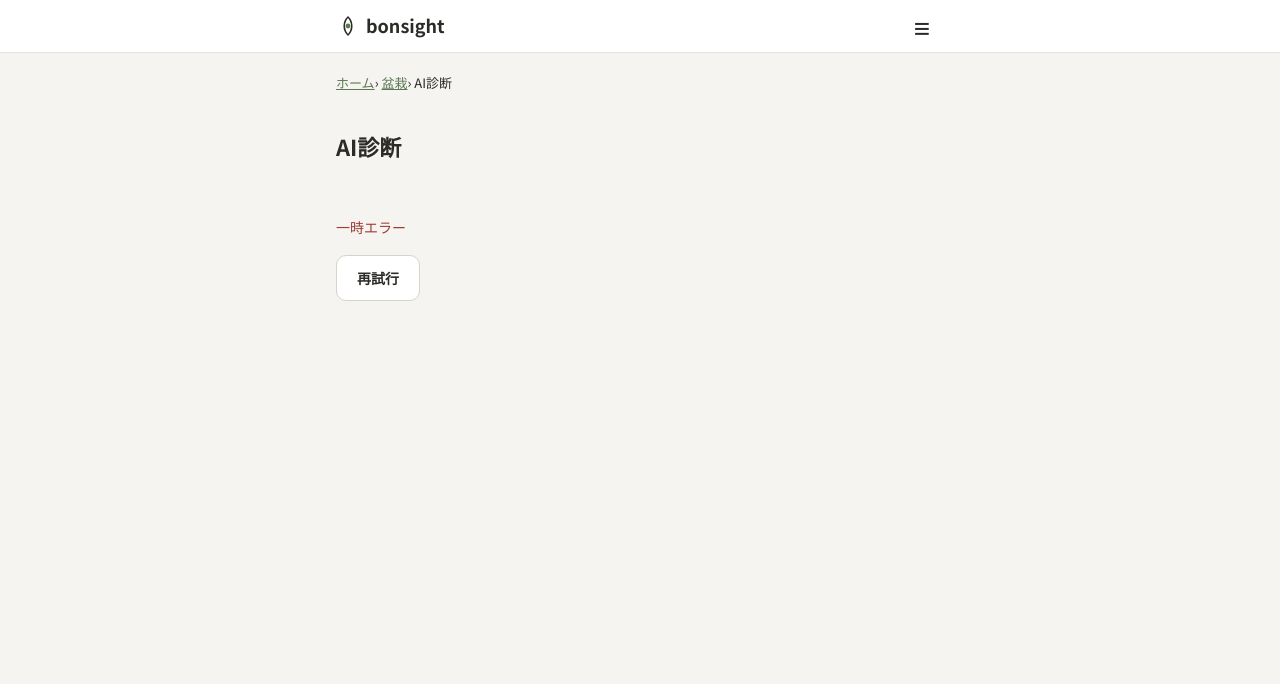
Test: idempotencyガード (useRef) › retryKey更新で createAdvice が再び1回のみ呼ばれる
The image size is (1280, 684).
Expected: the message "一時エラー" is shown, x1=336 y1=217 x2=406 y2=237
Click the button "再試行". click: (378, 278)
box: x1=336 y1=255 x2=420 y2=301
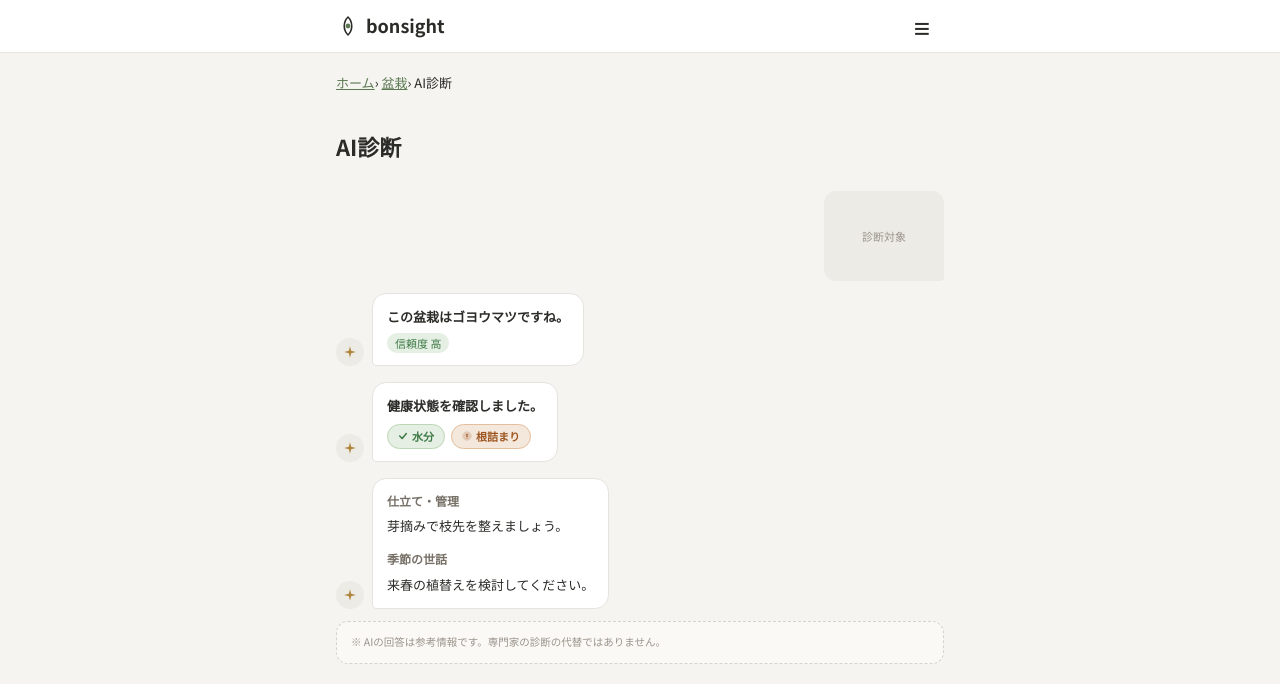
Expected: the text "この盆栽はゴヨウマツですね。" is shown, x1=387 y1=306 x2=569 y2=328
